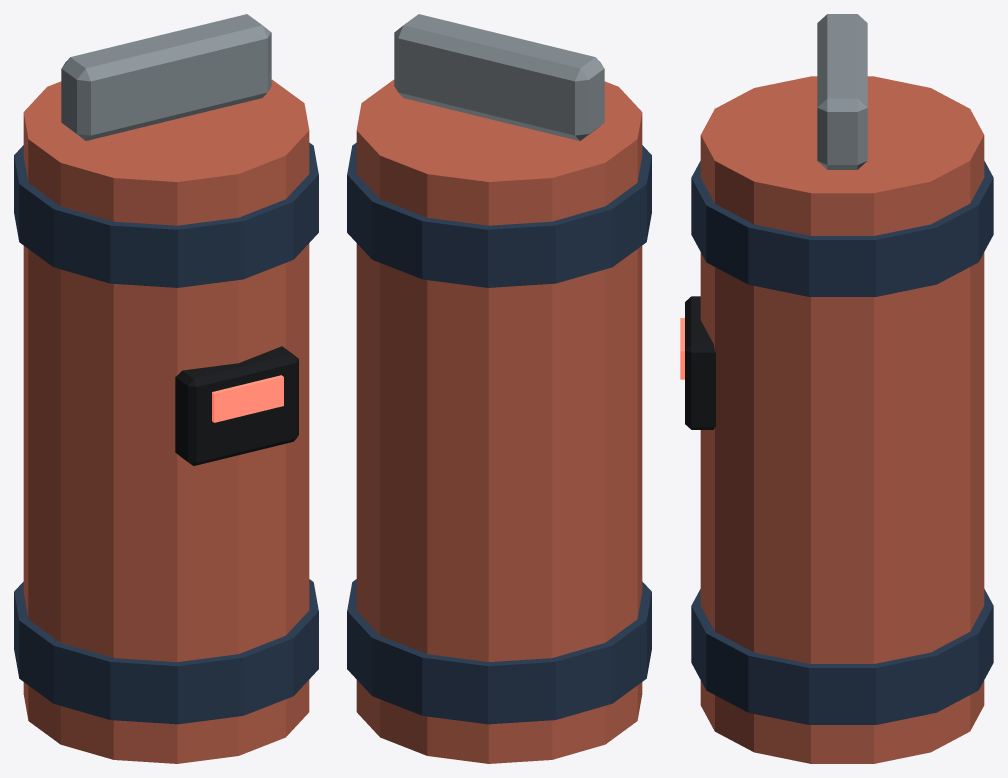
File: Tool_ThermiteCharge.fbx
3 views of the same model, side by side, from view 1: azimuth 30°, elevation 25°; view 2: azimuth 150°, elevation 25°; view 3: azimuth 270°, elevation 25° (orthographic).
Visible parts, largest first — view 1: Canister, Band, Band.001, Handle.003, Timer, TimerLed; view 2: Canister, Band, Band.001, Handle.003; view 3: Canister, Band, Band.001, Handle.003, Timer.
Boxes of the visible parts, bbox=[...] form: Canister: bbox=[23, 79, 309, 763]; Band: bbox=[14, 579, 318, 724]; Band.001: bbox=[14, 142, 318, 287]; Handle.003: bbox=[61, 14, 271, 140]; Timer: bbox=[175, 346, 298, 465]; TimerLed: bbox=[212, 375, 283, 422]; Canister: bbox=[356, 79, 642, 763]; Band: bbox=[347, 579, 651, 724]; Band.001: bbox=[347, 142, 651, 287]; Handle.003: bbox=[394, 14, 604, 140]; Canister: bbox=[700, 76, 984, 763]; Band: bbox=[691, 589, 993, 724]; Band.001: bbox=[691, 161, 993, 296]; Handle.003: bbox=[817, 14, 867, 169]; Timer: bbox=[685, 296, 715, 429].
Bounding box in the file's own units: 0.0936 × 0.2275 × 0.0995.
